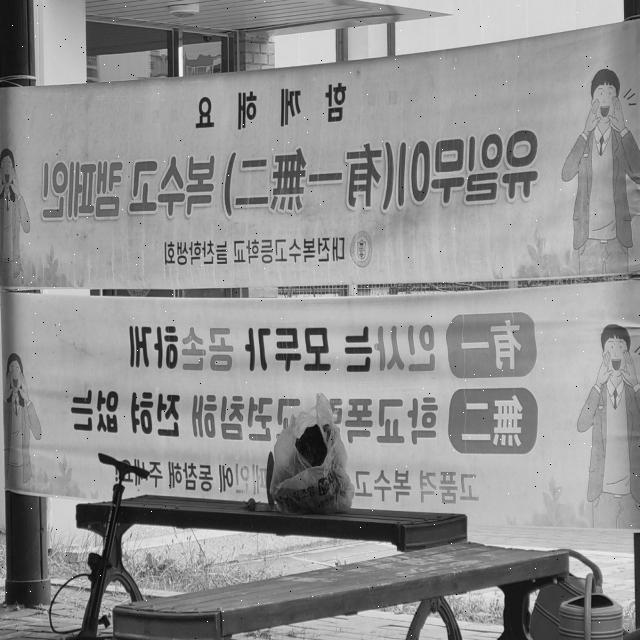logo: (342, 229, 377, 275)
